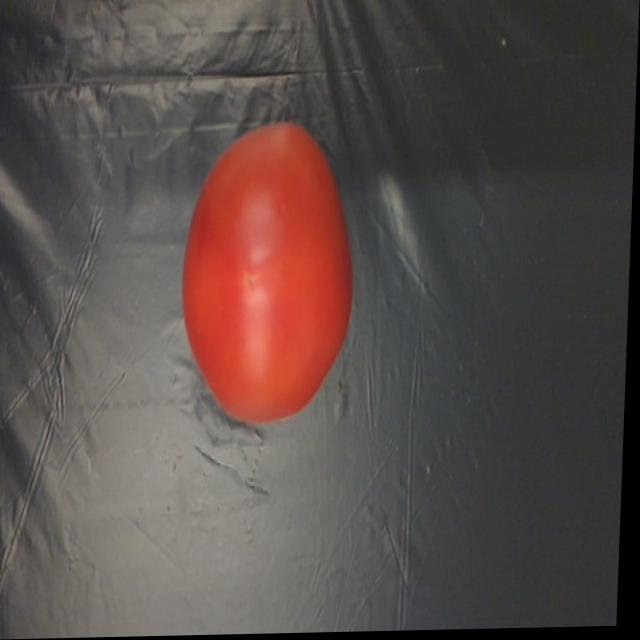kirmizi: (180, 133, 364, 425)
